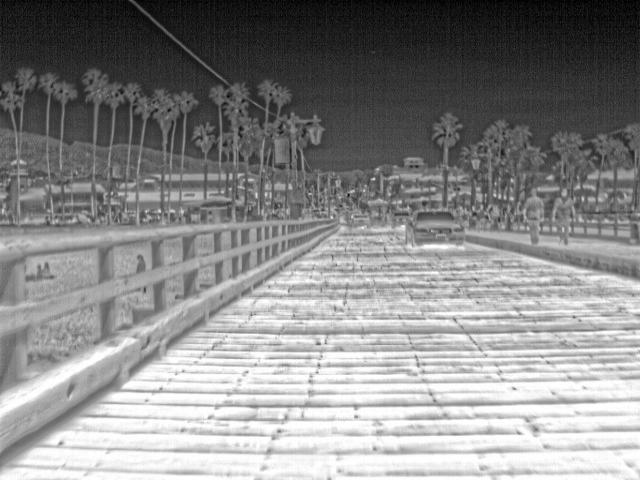car: (403, 209, 465, 246), (346, 210, 373, 229), (392, 207, 415, 228)
person: (551, 190, 578, 246), (524, 186, 546, 246), (465, 204, 480, 230), (476, 204, 490, 230), (134, 252, 149, 275)
